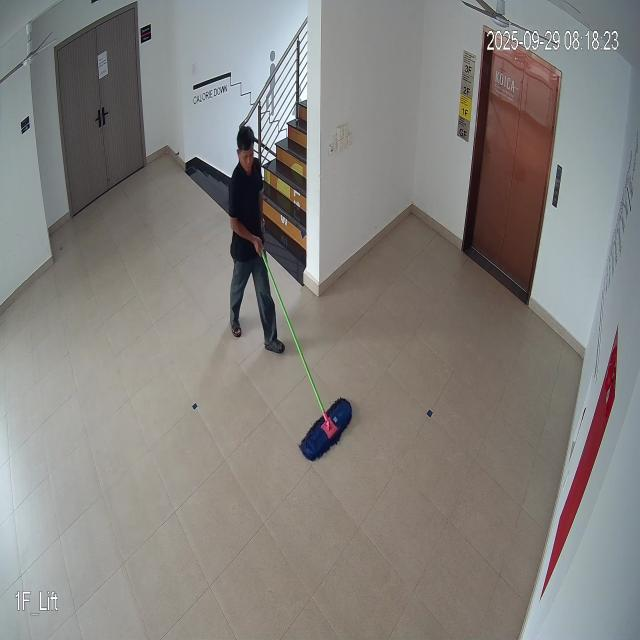face: (235, 118, 258, 178)
